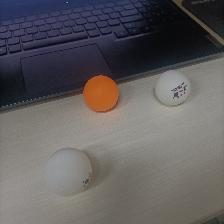WhiteBall: (44, 147, 93, 195), (154, 69, 191, 106)
YellowBall: (82, 75, 121, 112)
